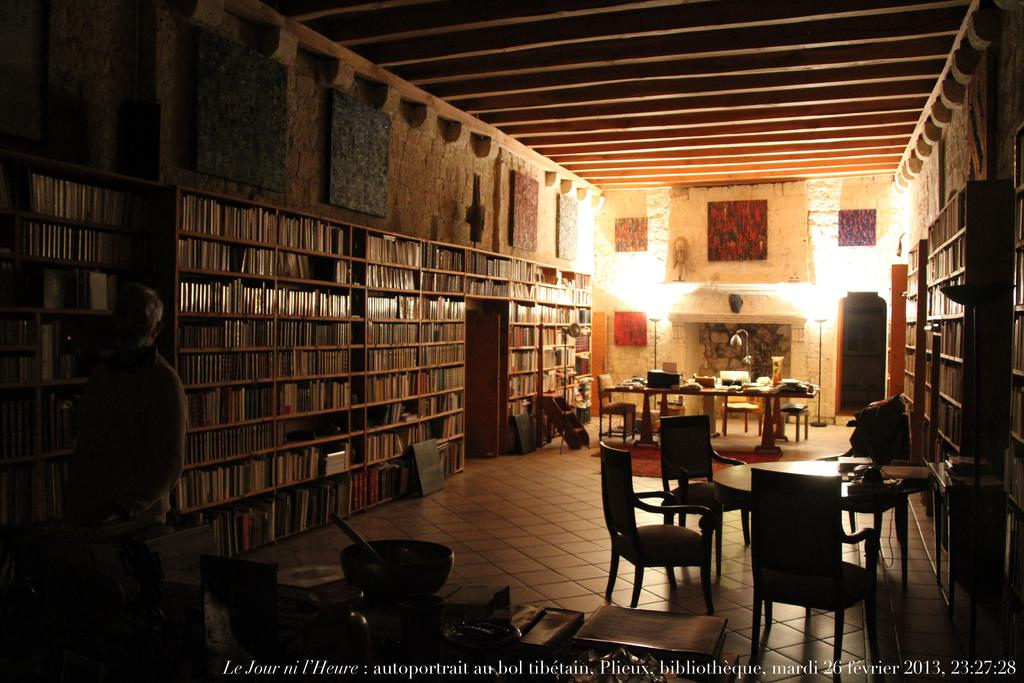Book: (0, 143, 600, 660), (878, 104, 1023, 682), (177, 281, 183, 314)
